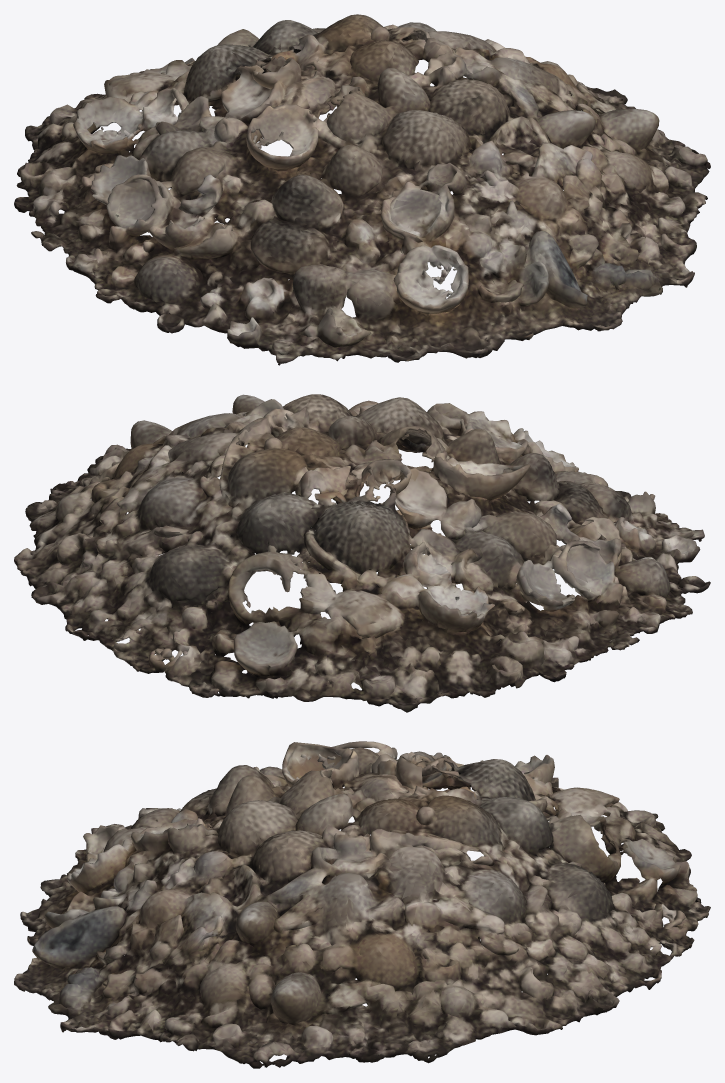
File: shell-midden-model.glb
3 renders of one model, top to bottom at view 1: azimuth 30°, elevation 25°; view 2: azimuth 150°, elevation 25°; view 3: azimuth 270°, elevation 25°, orthographic.
Visible parts, largest first — view 1: Mesh_0; view 2: Mesh_0; view 3: Mesh_0.
Boxes of the visible parts, x1=… form: Mesh_0: x1=14, y1=14, x2=710, y2=365; Mesh_0: x1=14, y1=394, x2=710, y2=712; Mesh_0: x1=14, y1=741, x2=710, y2=1068.
Bounding box in the file's own units: 1.5 × 0.3912 × 1.5.
Materials: 1 (1 with a texture image).
